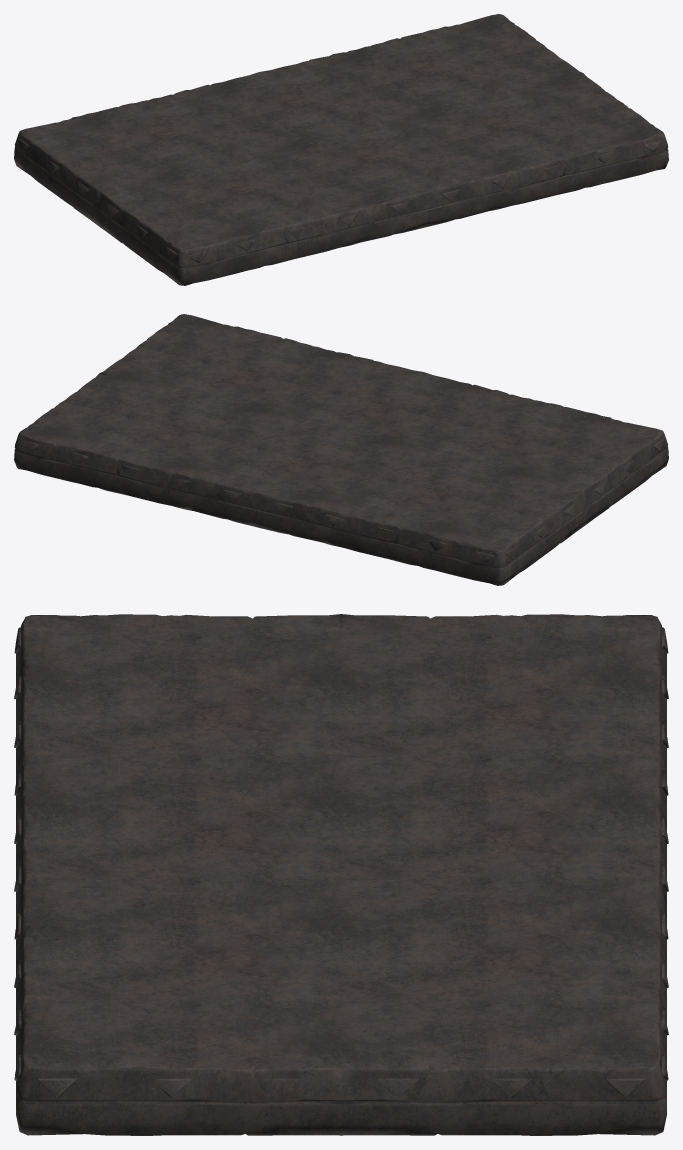
Rendered from SM_FloorModule.fbx.
The picture shows the model from 3 angles, top to bottom: view 1: azimuth 30°, elevation 25°; view 2: azimuth 150°, elevation 25°; view 3: azimuth 270°, elevation 25°; orthographic projection. The views are drawn at different scales.
Visible parts, largest first — view 1: SM_FloorModule_LOD0; view 2: SM_FloorModule_LOD0; view 3: SM_FloorModule_LOD0.
Part boxes in pixels (box(x1,y1,x2,y2)): SM_FloorModule_LOD0: box(14, 14, 668, 285); SM_FloorModule_LOD0: box(14, 314, 668, 585); SM_FloorModule_LOD0: box(14, 614, 668, 1135).
Size of the model in its own units: 752 by 451 by 51.34.
Materials: 2 (2 with a texture image).
